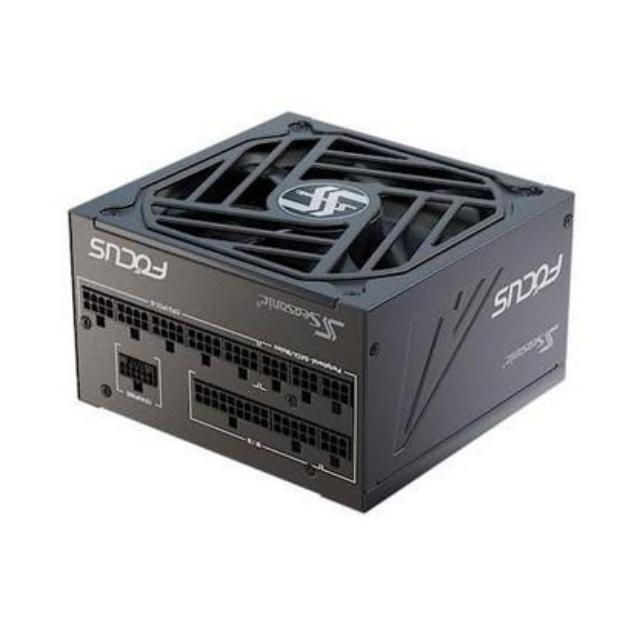PSU: (57, 101, 586, 528)
